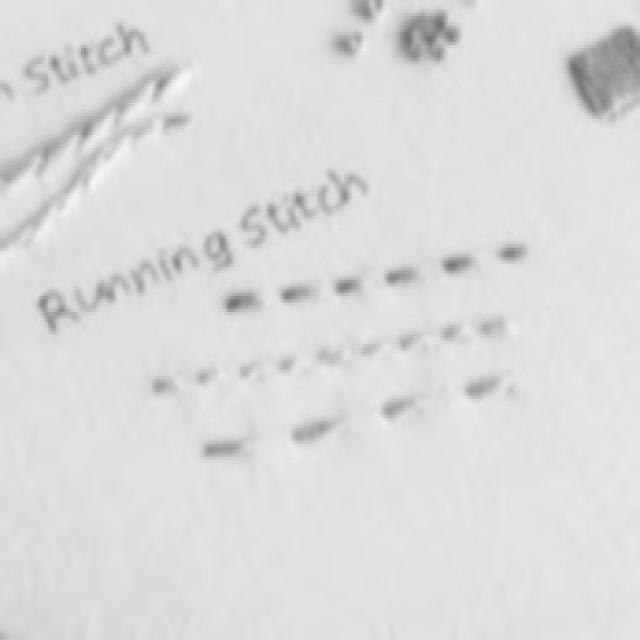stitch: (291, 417, 341, 443), (380, 393, 428, 420), (203, 435, 252, 459), (225, 288, 264, 311), (281, 280, 319, 302), (442, 253, 480, 274), (465, 375, 498, 399), (498, 240, 535, 261), (480, 316, 515, 338), (320, 343, 349, 368), (151, 373, 181, 397), (385, 267, 424, 284), (196, 366, 224, 388), (335, 275, 364, 295), (239, 361, 265, 383), (442, 323, 468, 343), (400, 331, 425, 350), (362, 338, 385, 357), (278, 354, 299, 374)
